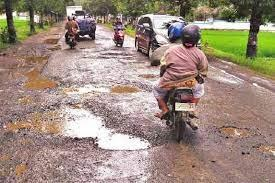Pothole: (15, 27, 161, 163), (0, 109, 56, 176), (211, 116, 275, 170)
